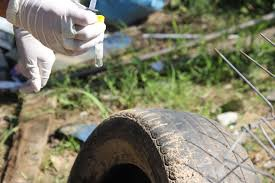tire: (65, 108, 263, 183)
